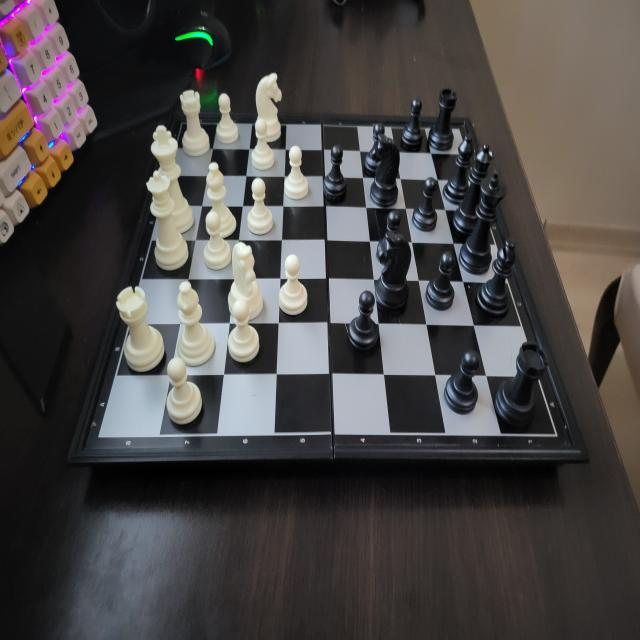black-bishop: (475, 239, 517, 317), (446, 132, 474, 203)
black-king: (459, 168, 509, 274)
black-knight: (376, 232, 412, 312), (368, 135, 399, 206)
black-pawn: (444, 348, 479, 414), (348, 290, 378, 355), (426, 253, 456, 310), (412, 176, 438, 232), (324, 146, 347, 204), (402, 98, 423, 149), (366, 124, 383, 176), (378, 211, 401, 249)
black-queen: (463, 141, 497, 230)
black-rook: (493, 341, 550, 428), (426, 87, 460, 149)
chess-board: (98, 112, 570, 463)
white-bishop: (178, 281, 215, 367), (206, 162, 237, 238)
white-king: (151, 124, 194, 232)
white-knight: (228, 242, 264, 320), (256, 72, 282, 141)
white-pawn: (166, 355, 202, 427), (228, 299, 260, 364), (278, 254, 308, 318), (246, 177, 274, 236), (204, 212, 231, 268), (283, 145, 309, 201), (216, 93, 240, 145), (252, 118, 274, 172)
white-queen: (146, 170, 190, 272)
white-rook: (116, 284, 165, 374), (179, 88, 211, 157)
